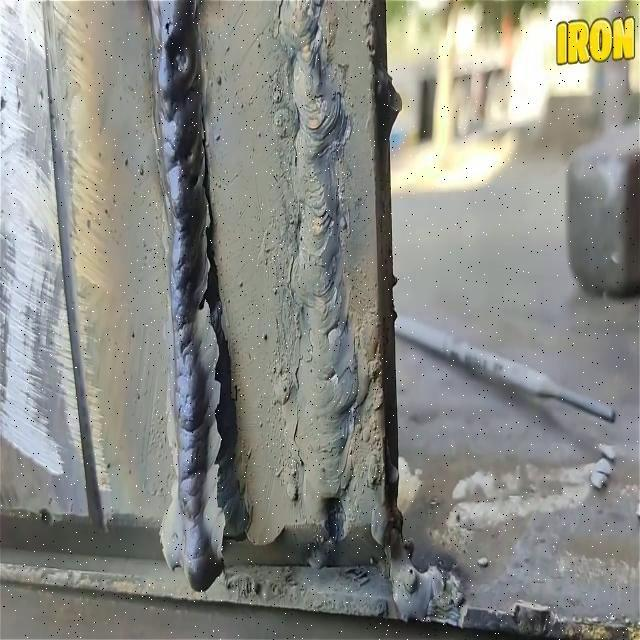Bad Welding: (149, 0, 249, 590), (280, 0, 358, 513)
Crack: (205, 222, 250, 539)
